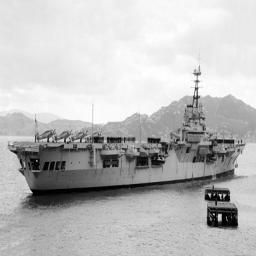Portanaves: (7, 44, 248, 197)
